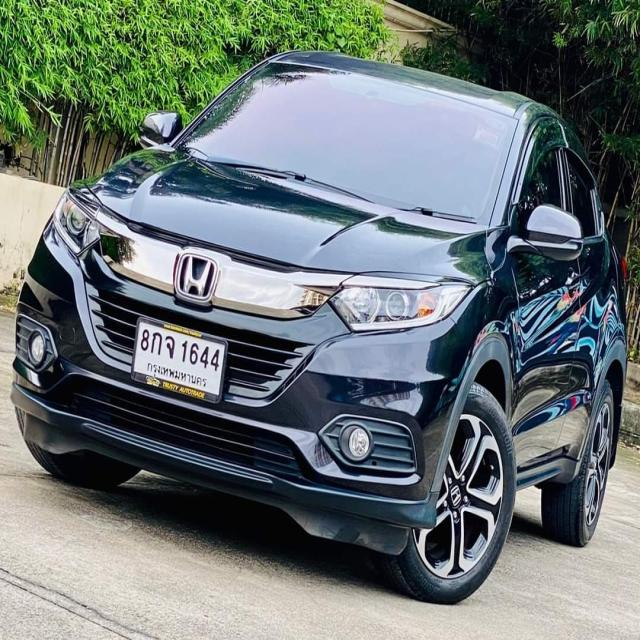license_plate: (129, 310, 231, 409)
